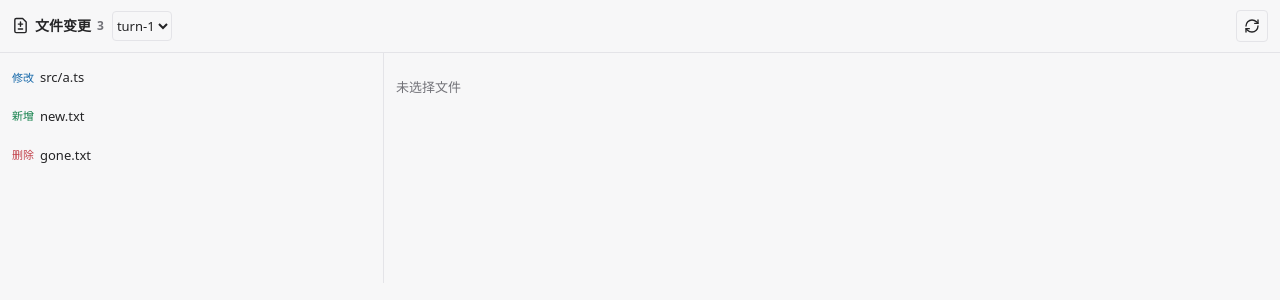
Test: FileReview › ignores a slow diff when another file is selected
Click the button "修改 src/a.ts" at (62, 77), box [6,59,377,96]
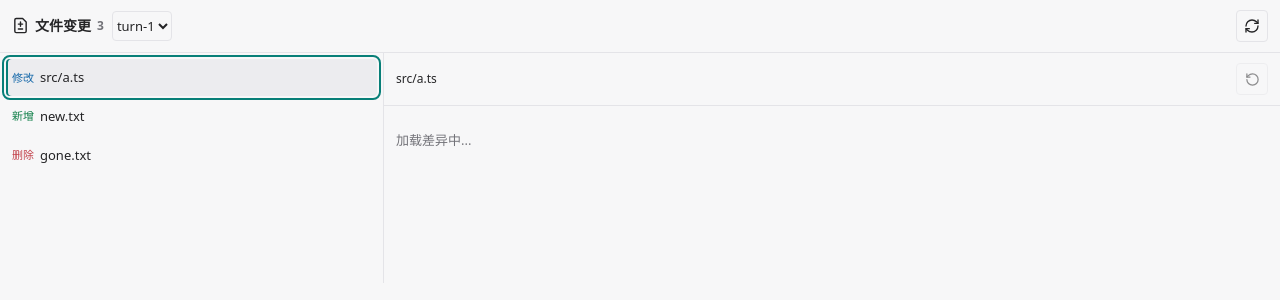
Click the button "新增 new.txt" at (62, 116), box [6,98,377,135]
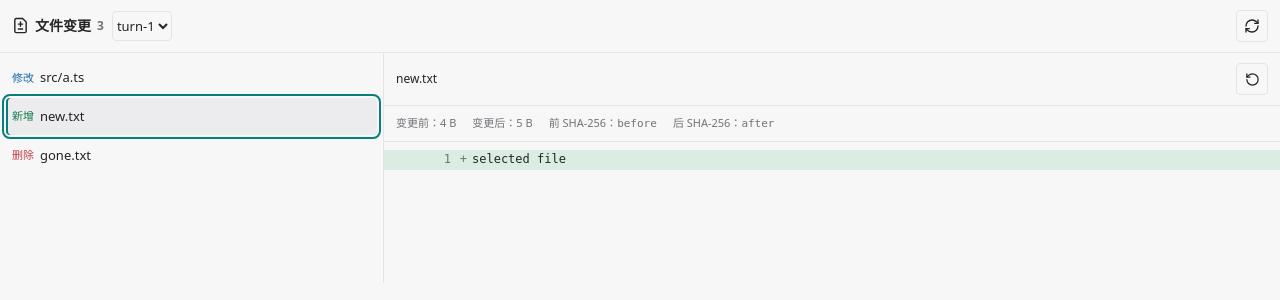
Expected: the text "selected file" is shown, [472,152,566,166]
